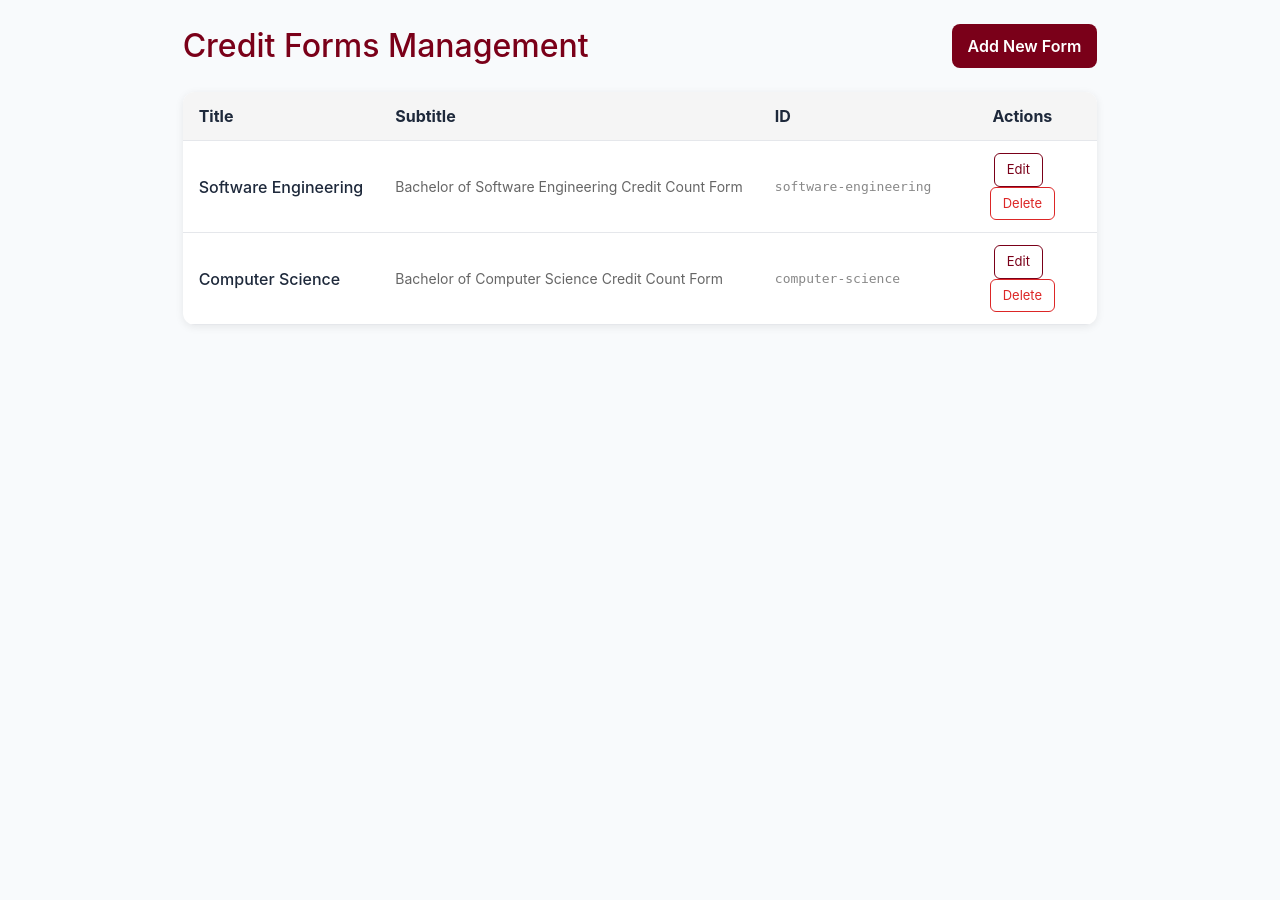
Test: CreditFormManager › Edit Form Modal › should open edit modal with pre-filled data
The image size is (1280, 900).
Check: the text "Software Engineering" is shown, box [183,140,379,232]
// Click the first Edit button
Click the button "Edit" next to "software-engineering".
click(1018, 170)  # box [994,153,1043,186]
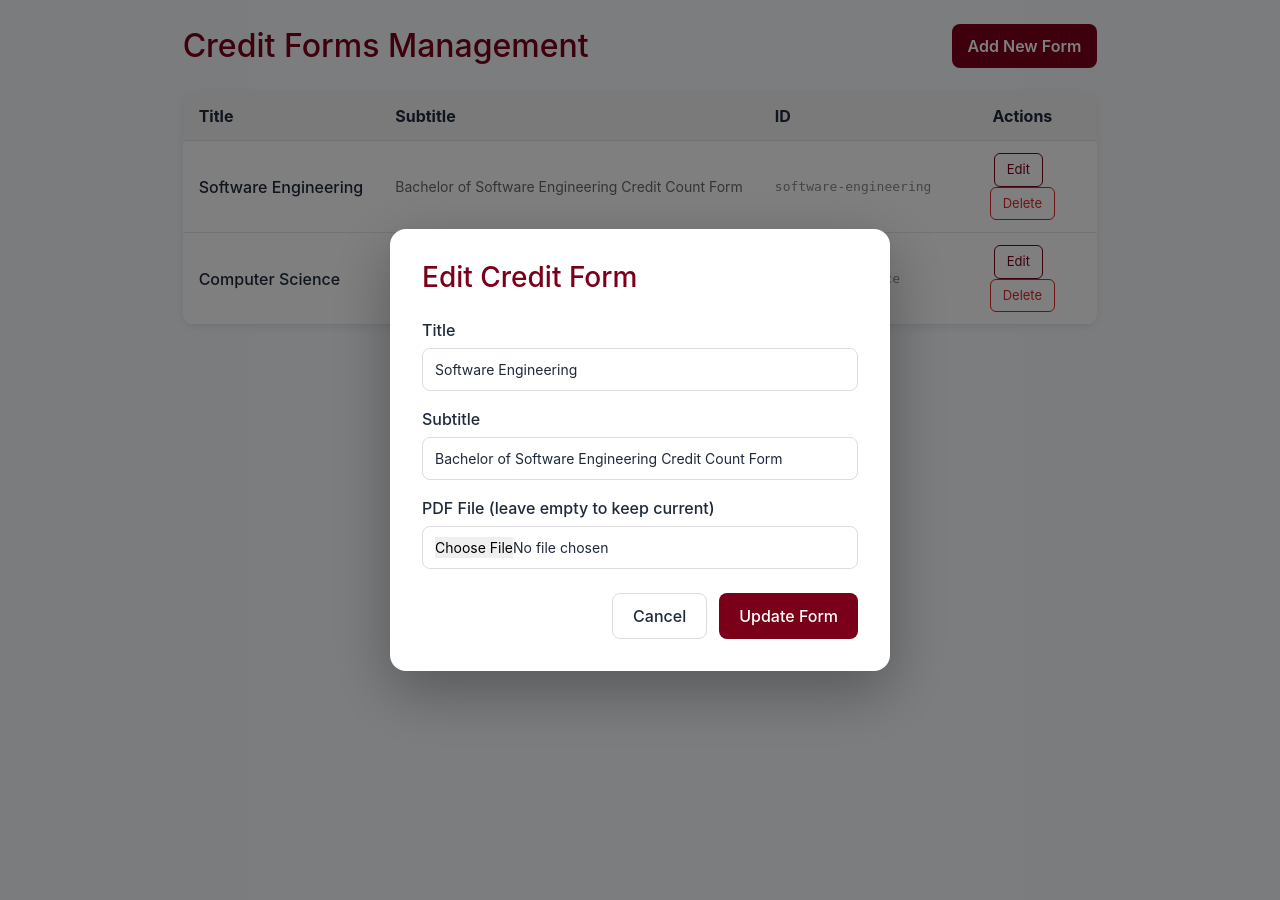
Check: the heading "Edit Credit Form" is shown, box [422,260,637,294]
Check: the button "Update Form" is shown, box [719,593,858,639]
Check: the field labelled "Title" holds "Software Engineering", box [422,348,858,391]
